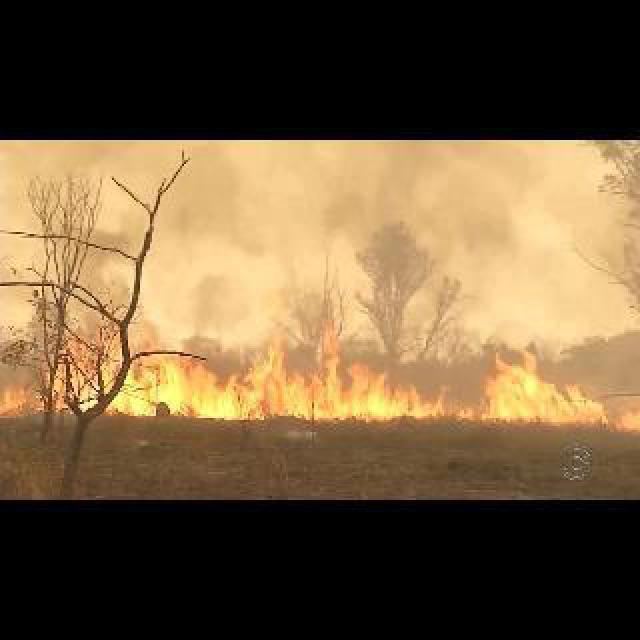Fire: (42, 338, 448, 416), (460, 358, 592, 426), (4, 380, 30, 416)
